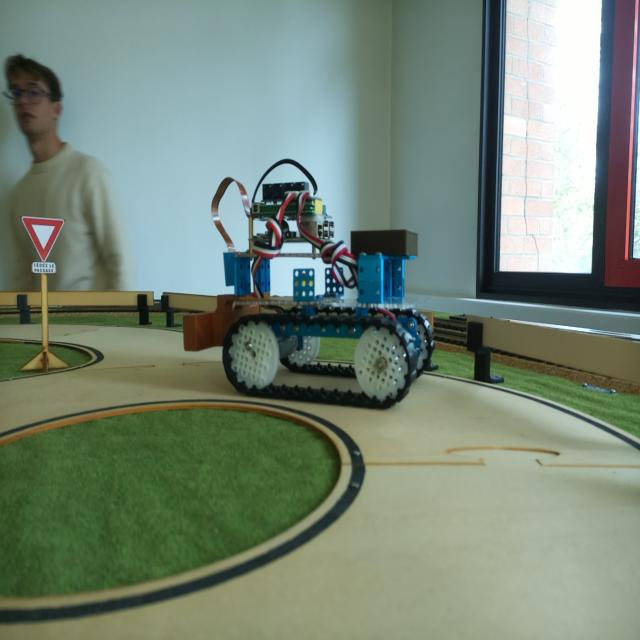obstacle_voiture: (177, 166, 434, 411)
panneau_ceder_passage: (21, 207, 68, 280)
